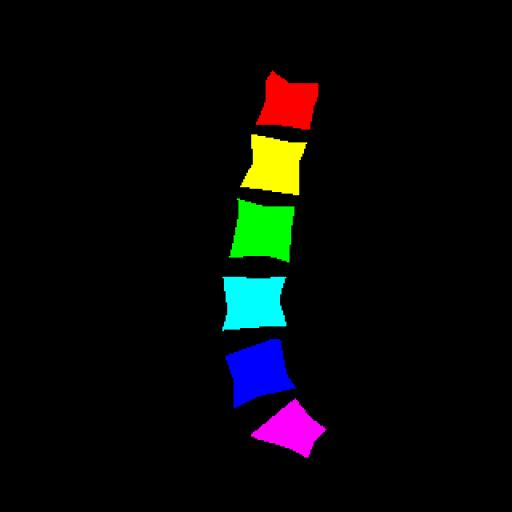L1: (256, 71, 318, 130)
L2: (241, 134, 307, 194)
L3: (229, 199, 294, 262)
L4: (223, 277, 286, 330)
L5: (226, 339, 295, 408)
S1: (251, 399, 326, 458)
